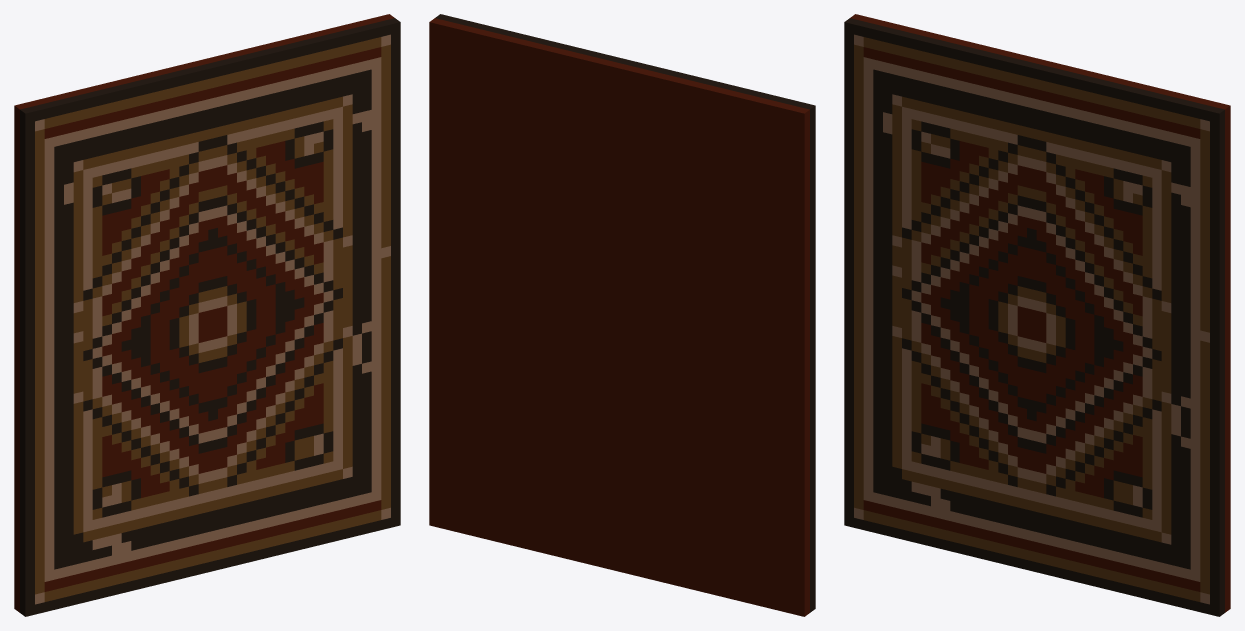
Rendered from Carpet.obj.
3 views of the same model, side by side, from view 1: azimuth 30°, elevation 25°; view 2: azimuth 150°, elevation 25°; view 3: azimuth 330°, elevation 25° (orthographic).
Bounding box in the file's own units: 3.9 × 5 × 0.2.
Materials: 1 (1 with a texture image).
